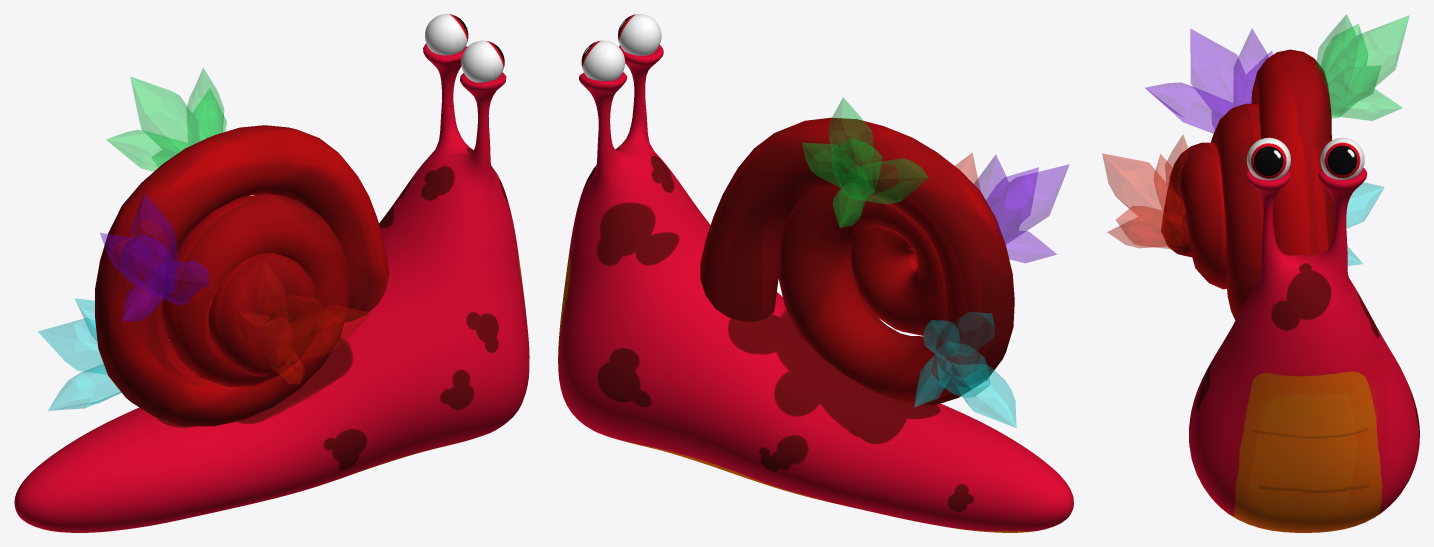
The model's file is caracol_volcan.glb.
The picture shows the model from 3 angles, left to right: view 1: azimuth 30°, elevation 25°; view 2: azimuth 150°, elevation 25°; view 3: azimuth 270°, elevation 25°; orthographic projection.
Parts seen in each view (by area): view 1: Cuerpo, Concha, Crystal01.001, Crystal01.002, Crystal01, Crystal01.003, Ojo01, Ojo02; view 2: Cuerpo, Concha, Crystal01, Crystal01.003, Crystal01.002, Ojo01, Ojo02; view 3: Cuerpo, Concha, Crystal01, Crystal01.001, Crystal01.002, Ojo01, Ojo02, Crystal01.003.
Boxes of the visible parts, x1,y1,x2,y2 form: Cuerpo: (14,44,529,532); Concha: (95,125,389,426); Crystal01.001: (237,260,371,383); Crystal01.002: (100,193,208,321); Crystal01: (106,68,226,171); Crystal01.003: (38,298,121,410); Ojo01: (461,40,504,82); Ojo02: (425,14,468,55); Cuerpo: (558,45,1073,532); Concha: (700,117,1014,405); Crystal01: (802,97,928,227); Crystal01.003: (914,312,1016,427); Crystal01.002: (974,155,1069,262); Ojo01: (618,14,661,55); Ojo02: (581,40,625,80); Cuerpo: (1189,168,1419,532); Concha: (1161,49,1335,320); Crystal01: (1316,14,1409,120); Crystal01.001: (1102,135,1188,249); Crystal01.002: (1145,29,1272,133); Ojo01: (1246,137,1290,180); Ojo02: (1320,137,1364,179); Crystal01.003: (1346,182,1384,265).
Bounding box in the file's own units: 2.17 × 1.75 × 1.2.
7 materials, 3 textured.
